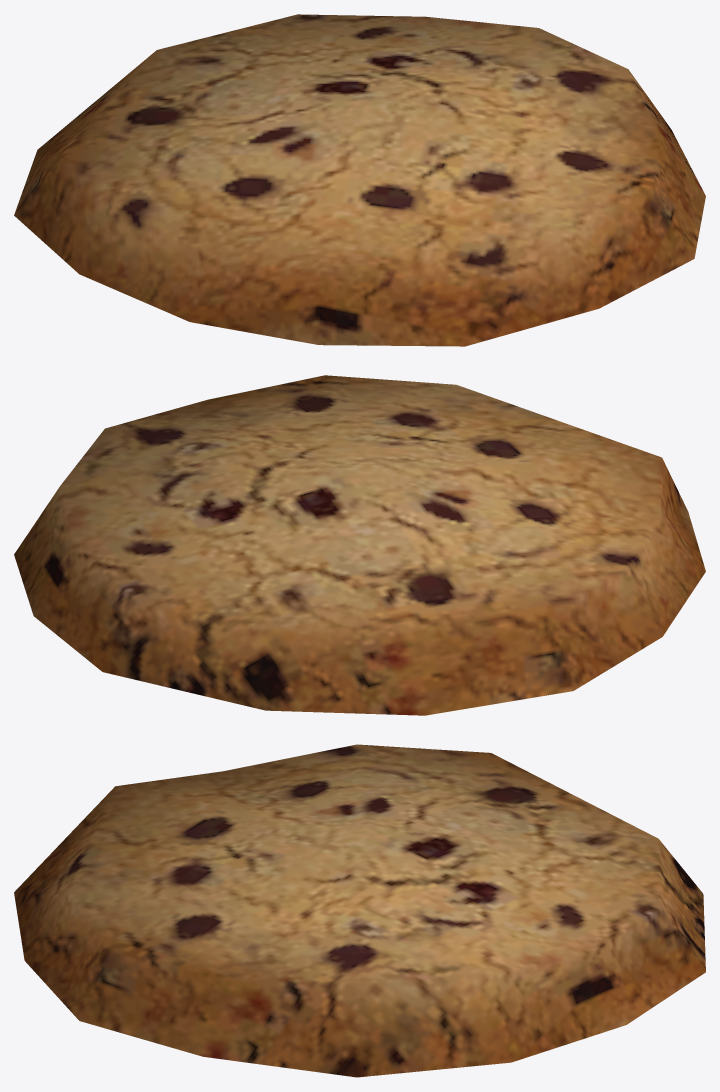
File: cookie_cinematic.fbx
The picture shows the model from 3 angles, top to bottom: view 1: azimuth 30°, elevation 25°; view 2: azimuth 150°, elevation 25°; view 3: azimuth 270°, elevation 25°; orthographic projection.
Parts seen in each view (by area): view 1: mesh_0; view 2: mesh_0; view 3: mesh_0.
Part boxes in pixels (<box>): mesh_0: <box>14,14,705,346</box>; mesh_0: <box>14,375,705,715</box>; mesh_0: <box>14,744,705,1077</box>.
Size of the model in its own units: 8.63 by 1.3 by 8.68.
Materials: 1 (1 with a texture image).
